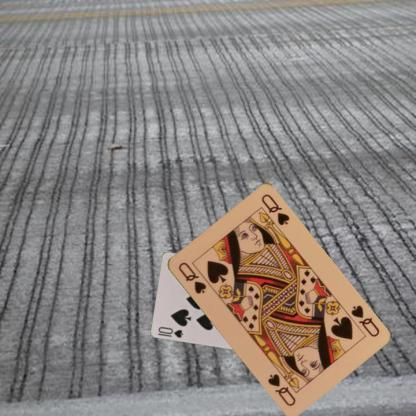10s: (156, 324, 185, 339)
Qs: (174, 258, 207, 296), (348, 302, 380, 339)
